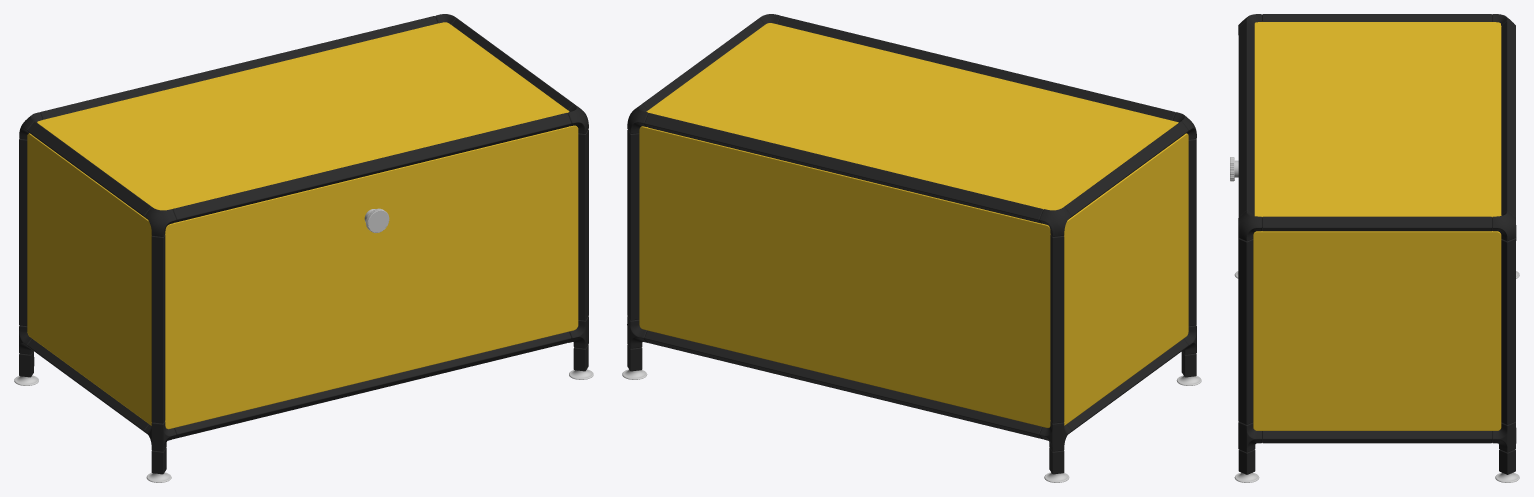
The picture shows the model from 3 angles, left to right: view 1: azimuth 30°, elevation 25°; view 2: azimuth 150°, elevation 25°; view 3: azimuth 270°, elevation 25°; orthographic projection.
Visible parts, largest first — view 1: 729x374x329; view 2: 729x374x329; view 3: 729x374x329.
Boxes of the visible parts, x1=… form: 729x374x329: x1=14, y1=14, x2=593, y2=482; 729x374x329: x1=622, y1=14, x2=1201, y2=482; 729x374x329: x1=1230, y1=14, x2=1519, y2=482.
Bounding box in the file's own units: 0.8189 × 0.4683 × 0.4707.
